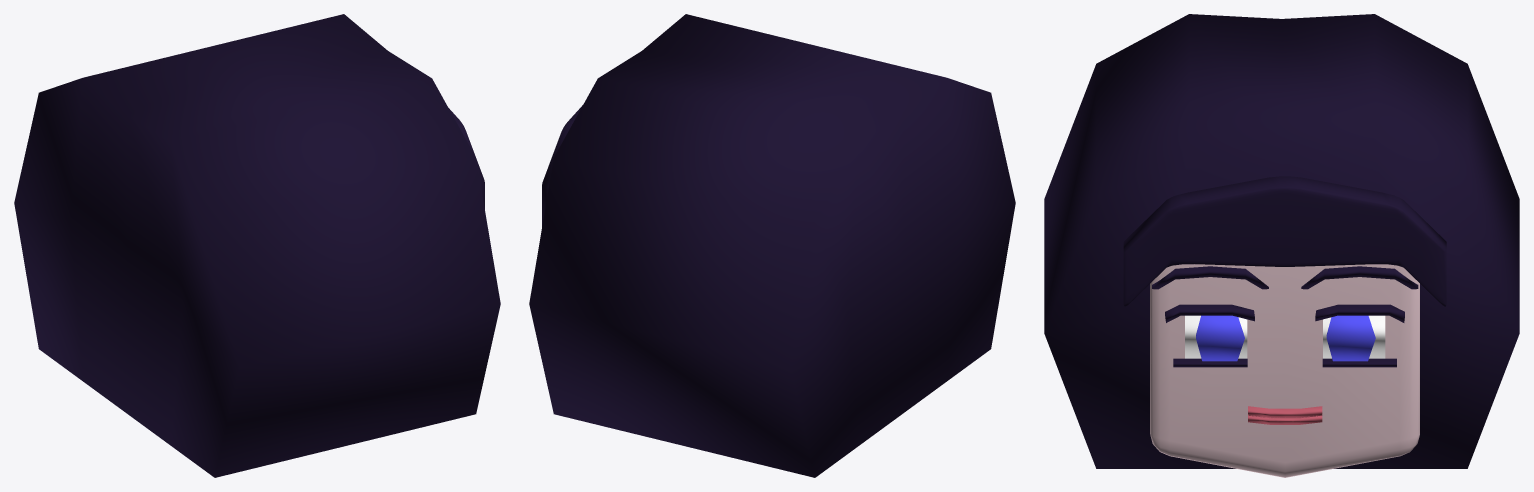
File: Head.glb
The picture shows the model from 3 angles, left to right: view 1: azimuth 30°, elevation 25°; view 2: azimuth 150°, elevation 25°; view 3: azimuth 270°, elevation 25°; orthographic projection. The views are drawn at different scales.
Parts seen in each view (by area): view 1: Head; view 2: Head, Bangs; view 3: Head, Face, Bangs.
Part boxes in pixels (x1,y1,x2,y2): Head: [14, 14, 500, 477]; Head: [529, 14, 1015, 477]; Bangs: [542, 105, 582, 226]; Head: [1044, 14, 1519, 468]; Face: [1150, 264, 1419, 477]; Bangs: [1123, 176, 1446, 306].
Bounding box in the file's own units: 1.86 × 1.93 × 2.55.
